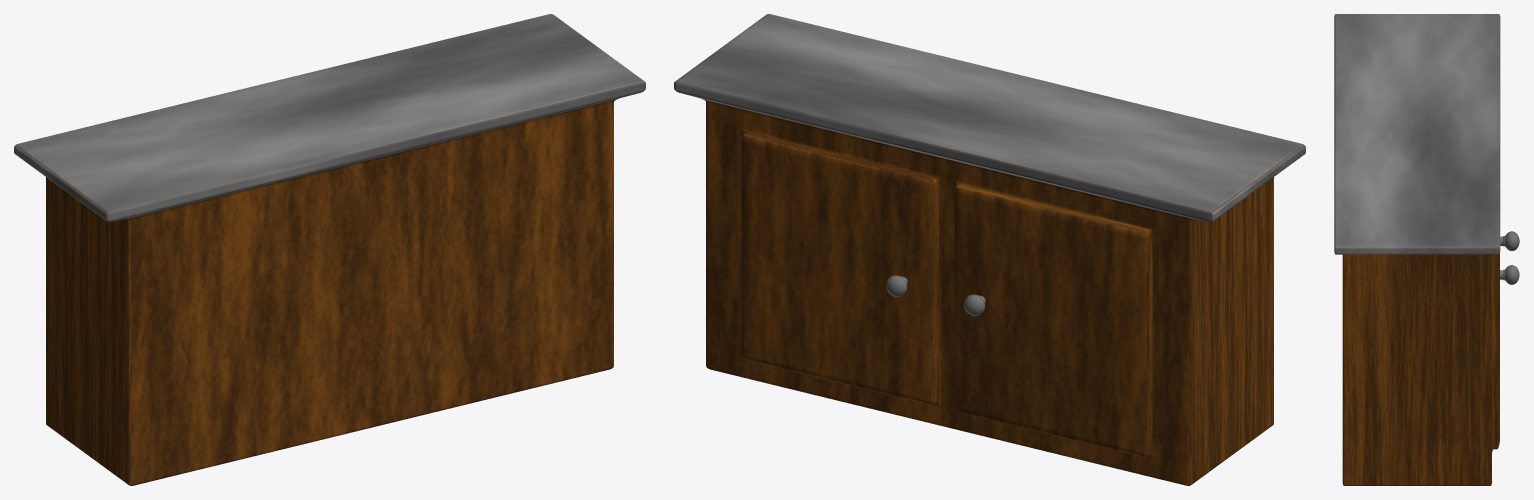
Rendered from Bar.fbx.
3 views of the same model, side by side, from view 1: azimuth 30°, elevation 25°; view 2: azimuth 150°, elevation 25°; view 3: azimuth 270°, elevation 25° (orthographic). The views are drawn at different scales.
Parts seen in each view (by area): view 1: Bar; view 2: Bar; view 3: Bar, Knob, Knob.001.
Part boxes in pixels (<box>): Bar: <box>14,14,645,485</box>; Bar: <box>674,14,1305,485</box>; Bar: <box>1334,14,1500,485</box>; Knob: <box>1500,265,1519,284</box>; Knob.001: <box>1500,231,1519,250</box>.
Size of the model in its own units: 222 by 112 by 74.5.
Materials: 2 (1 with a texture image).
